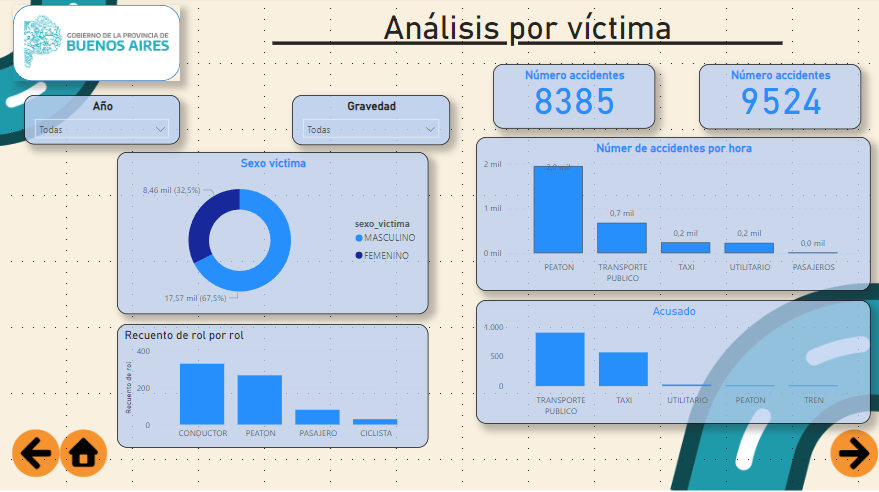

Layout of this report page (visuals, bound fields, positions):
{"tool":"powerbi","page":{"name":"Análisis victima","canvas":[1280,720],"ordinal":6},"visuals":[{"type":"group","id":"g1","title":"Grupo 1","box":[18.9,0,242.9,132.4],"z":0},{"type":"shape","box":[18.9,11.4,243.4,110.7],"z":0,"group":"g1"},{"type":"image","box":[27,0,227.2,132],"z":1000,"group":"g1"},{"type":"textbox","box":[378.2,11.6,778.2,85.8],"z":1000},{"type":"slicer","title":"Año","fields":{"Values":["hechos.fecha.Variación.Jerarquía de fechas.Año"]},"box":[35.4,143.2,227.4,72.4],"z":2000},{"type":"slicer","title":"Gravedad","fields":{"Values":["hechos.gravedad"]},"box":[424.7,142.5,229.8,72.7],"z":3000},{"type":"card","title":"Número accidentes","fields":{"Values":["hechos.Total accidentes"]},"box":[717.5,97.7,235.8,94.3],"z":4000},{"type":"card","title":"Número accidentes","fields":{"Values":["hechos.Total victimas"]},"box":[1016.7,97.5,235.6,94.5],"z":5000},{"type":"columnChart","title":"Númer de accidentes por hora","fields":{"Category":["victimas.vehiculo_victima"],"Y":["CountNonNull(victimas.vehiculo_victima)"]},"box":[692.2,203.8,574.3,224],"z":6000},{"type":"donutChart","title":"Sexo victima","fields":{"Category":["victimas.sexo_victima"],"Y":["CountNonNull(victimas.sexo_victima)"]},"box":[170.1,225.7,453.1,235.8],"z":7000},{"type":"columnChart","title":"Rol de la victima","fields":{"Category":["victimas.rol"],"Y":["CountNonNull(victimas.rol)"]},"box":[170.1,474.9,453.1,180.2],"z":8000},{"type":"columnChart","title":"Acusado","fields":{"Category":["hechos.acusado"],"Y":["CountNonNull(hechos.acusado)"]},"box":[692.2,441.3,574.3,180.2],"z":9000},{"type":"actionButton","box":[90.9,623.2,58.9,62.3],"z":10000},{"type":"actionButton","box":[11.8,633.3,79.2,62.3],"z":11000}]}

Visuals, with their boxes in screenshot pixels (x1, y1, x2, y2), scaled from the page's 1280x720 canvas onto the 879x492 screenshot:
"Grupo 1" group: 13:0:180:90
shape: 13:8:180:83
image: 19:0:175:90
textbox: 260:8:794:67
"Año" slicer: 24:98:180:147
"Gravedad" slicer: 292:97:449:147
"Número accidentes" card: 493:67:655:131
"Número accidentes" card: 698:67:860:131
"Númer de accidentes por hora" columnChart: 475:139:870:292
"Sexo victima" donutChart: 117:154:428:315
"Rol de la victima" columnChart: 117:325:428:448
"Acusado" columnChart: 475:302:870:425
actionButton: 62:426:103:468
actionButton: 8:433:62:475
